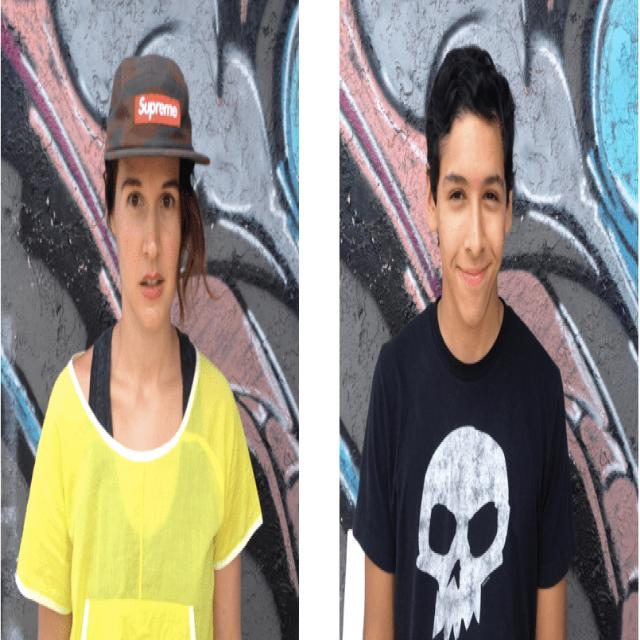cap: (106, 49, 208, 330)
head: (428, 48, 515, 321)
